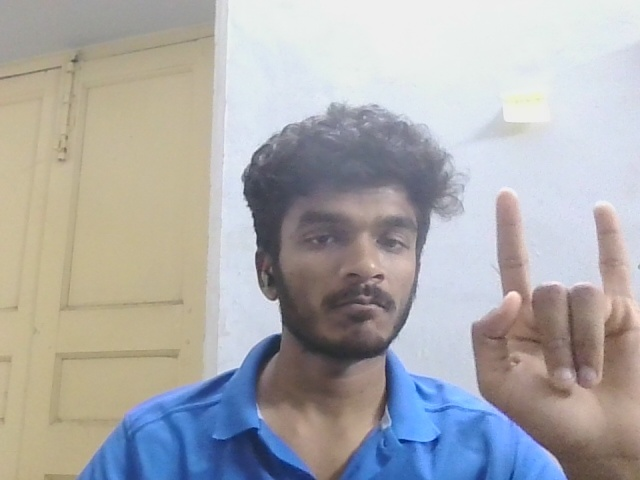Iloveyou: (451, 187, 640, 449)
